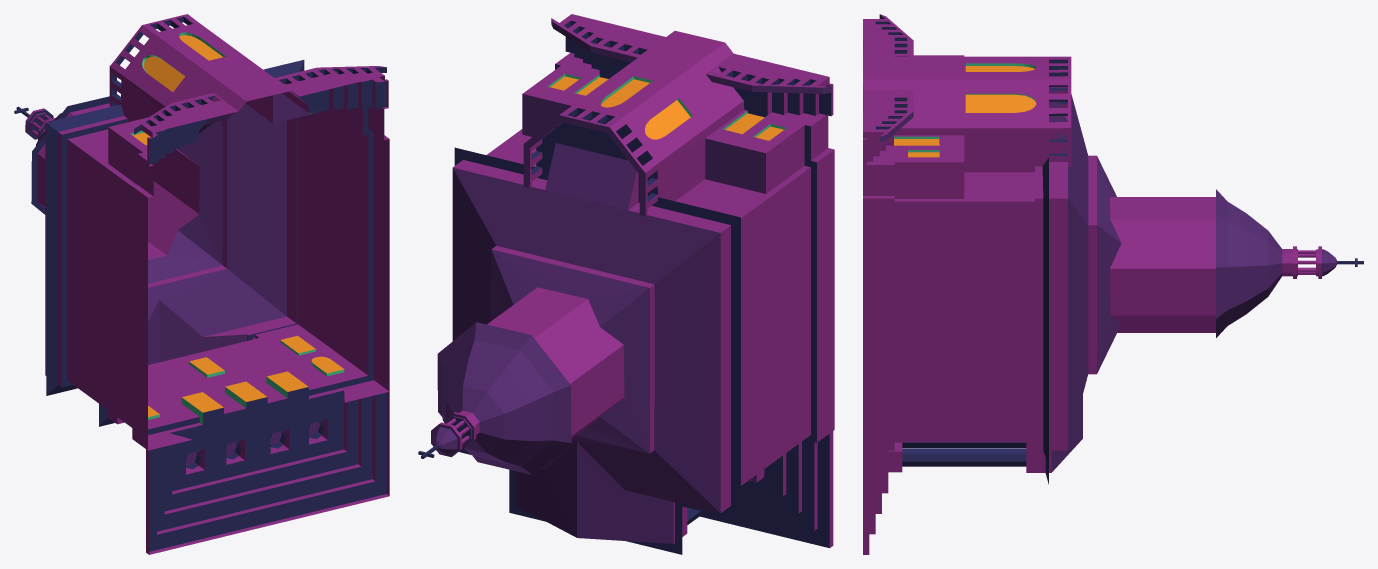
File: Garnizonowy Tier 3.fbx
3 renders of one model, left to right at view 1: azimuth 30°, elevation 25°; view 2: azimuth 150°, elevation 25°; view 3: azimuth 270°, elevation 25°, orthographic. The views are drawn at different scales.
Visible parts, largest first — view 1: Cylinder; view 2: Cylinder; view 3: Cylinder.
Part boxes in pixels (<box>): Cylinder: <box>14,14,389,554</box>; Cylinder: <box>418,14,834,554</box>; Cylinder: <box>863,14,1363,554</box>.
Bounding box in the file's own units: 3.09 × 4.92 × 5.21.
